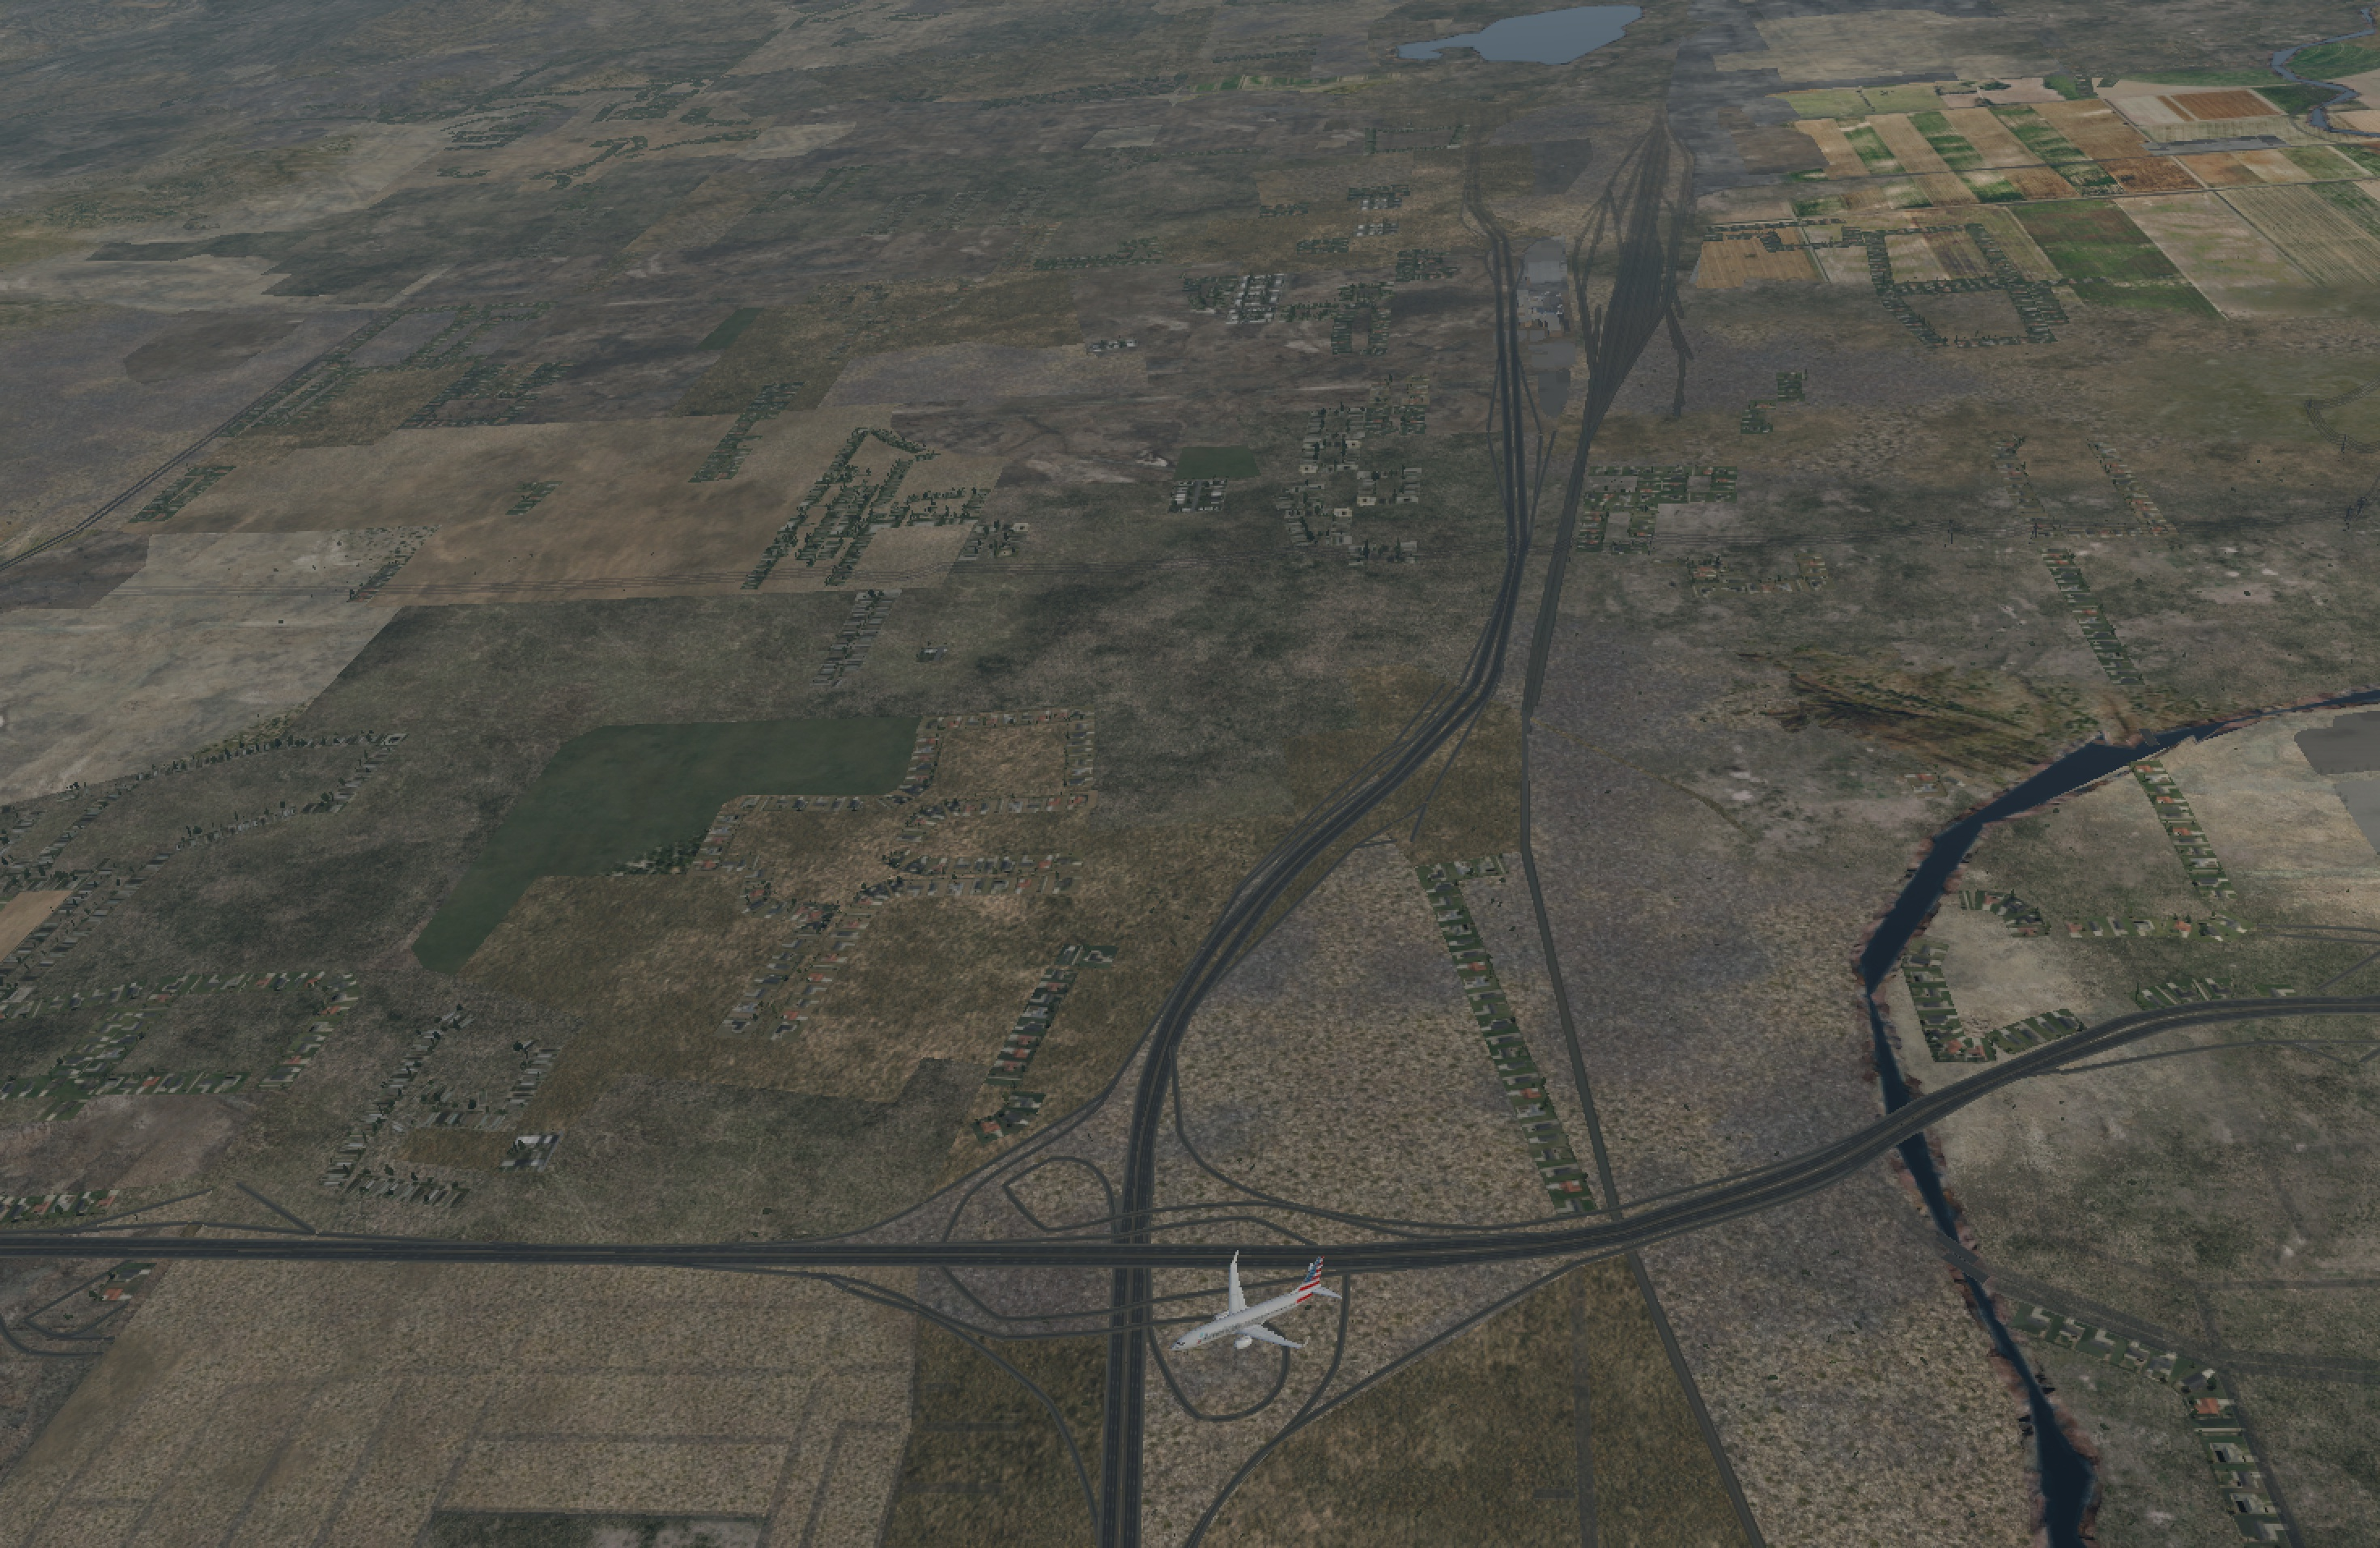aircraft: (1159, 1289, 1331, 1354)
